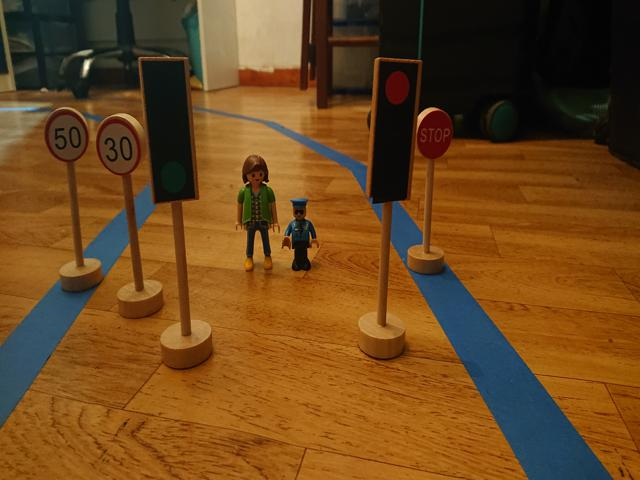30 speed sign: (96, 118, 142, 176)
50 speed sign: (45, 110, 89, 162)
green light: (149, 65, 190, 203)
person: (230, 155, 281, 270), (282, 197, 320, 272)
red light: (378, 62, 409, 191)
stop sign: (418, 112, 455, 160)
